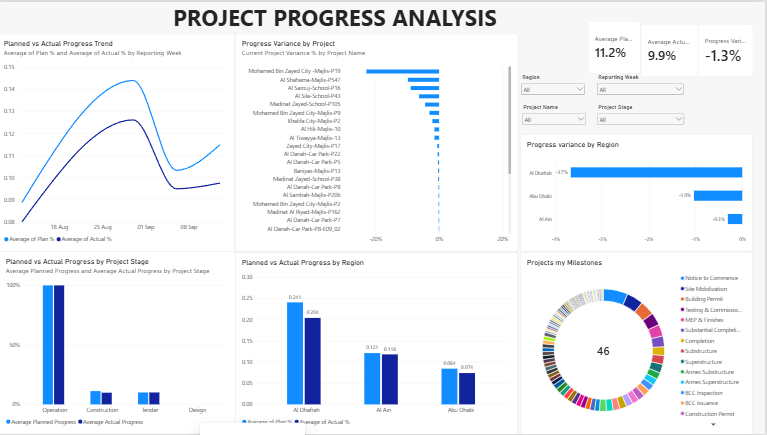

This screenshot's page, from the dashboard's own definition file:
{"tool":"powerbi","page":{"name":"Progress analysis","canvas":[1920,1080],"ordinal":1},"visuals":[{"type":"textbox","box":[10.1,0,1670.6,108.3],"z":0},{"type":"slicer","fields":{"Values":["Project updates.Reporting Week"]},"box":[1495,180,226.8,151.2],"z":1000},{"type":"lineChart","title":"Planned vs Actual Progress Trend","fields":{"Category":["Project updates.Reporting Week"],"Y":["Avg(Project updates.Plan %)","Avg(Project updates.Actual %)"]},"box":[0,76.9,594.6,546.8],"z":2000},{"type":"clusteredBarChart","title":"Progress Variance by Project","fields":{"Category":["Projects.Project Name"],"Y":["Calendar.Current Project Variance %"]},"box":[595.4,76.9,708,546.8],"z":3000},{"type":"cardVisual","fields":{"Data":["Project updates.Average Planned Progress"]},"box":[1477.5,47.5,132.3,132.3],"z":4000},{"type":"cardVisual","fields":{"Data":["Project updates.Average Actual Progress"]},"box":[1610,55,143.1,132.3],"z":5000},{"type":"cardVisual","fields":{"Data":["Project updates.Progress Variance"]},"box":[1752.5,55,138.5,132.3],"z":6000},{"type":"clusteredColumnChart","title":"Planned vs Actual Progress by Project Stage","fields":{"Category":["Projects.Project Stage"],"Y":["Project updates.Average Planned Progress","Project updates.Average Actual Progress"]},"box":[4.6,623.1,590.8,458.5],"z":7000},{"type":"slicer","fields":{"Values":["Projects.Project Stage"]},"box":[1495,255,227.5,132.5],"z":8000},{"type":"slicer","fields":{"Values":["Projects.Region"]},"box":[1305,180,170,80],"z":9000},{"type":"clusteredColumnChart","title":"Planned vs Actual Progress by Region","fields":{"Category":["Projects.Region"],"Y":["Avg(Project updates.Plan %)","Avg(Project updates.Actual %)"]},"box":[596,624,707,456],"z":10000},{"type":"slicer","fields":{"Values":["Projects.Project Name"]},"box":[1307.5,255,170,90],"z":11000},{"type":"clusteredBarChart","title":"Progress variance by Region","fields":{"Category":["Projects.Region"],"Y":["Calendar.Current Project Variance %"]},"box":[1308.3,330,581.7,293.3],"z":12000},{"type":"donutChart","title":"Projects my Milestones","fields":{"Category":["Project updates.Milestones"],"Y":["Count(Projects.Project ID)"]},"box":[1308,624,582,456],"z":13000}]}

Visuals, with their boxes in screenshot pixels (x1, y1, x2, y2), scaled from the page's 1920x1080 canvas onto the 767x435 screenshot:
textbox: {"x1": 4, "y1": 0, "x2": 671, "y2": 44}
slicer - Project updates.Reporting Week: {"x1": 597, "y1": 72, "x2": 688, "y2": 133}
"Planned vs Actual Progress Trend" lineChart: {"x1": 0, "y1": 31, "x2": 238, "y2": 251}
"Progress Variance by Project" clusteredBarChart: {"x1": 238, "y1": 31, "x2": 521, "y2": 251}
cardVisual - Project updates.Average Planned Progress: {"x1": 590, "y1": 19, "x2": 643, "y2": 72}
cardVisual - Project updates.Average Actual Progress: {"x1": 643, "y1": 22, "x2": 700, "y2": 75}
cardVisual - Project updates.Progress Variance: {"x1": 700, "y1": 22, "x2": 755, "y2": 75}
"Planned vs Actual Progress by Project Stage" clusteredColumnChart: {"x1": 2, "y1": 251, "x2": 238, "y2": 434}
slicer - Projects.Project Stage: {"x1": 597, "y1": 103, "x2": 688, "y2": 156}
slicer - Projects.Region: {"x1": 521, "y1": 72, "x2": 589, "y2": 105}
"Planned vs Actual Progress by Region" clusteredColumnChart: {"x1": 238, "y1": 251, "x2": 521, "y2": 434}
slicer - Projects.Project Name: {"x1": 522, "y1": 103, "x2": 590, "y2": 139}
"Progress variance by Region" clusteredBarChart: {"x1": 523, "y1": 133, "x2": 755, "y2": 251}
"Projects my Milestones" donutChart: {"x1": 523, "y1": 251, "x2": 755, "y2": 434}
